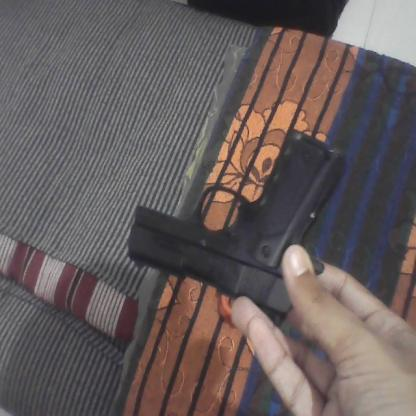handgun: (126, 131, 346, 325)
